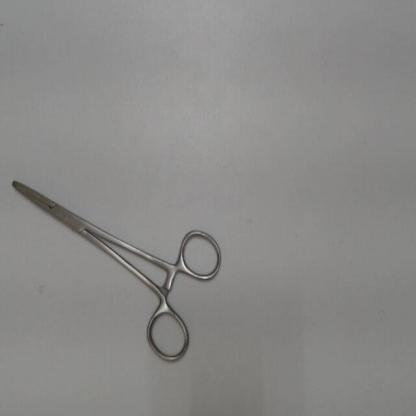Mayo Needle Holder: (4, 166, 227, 372)
